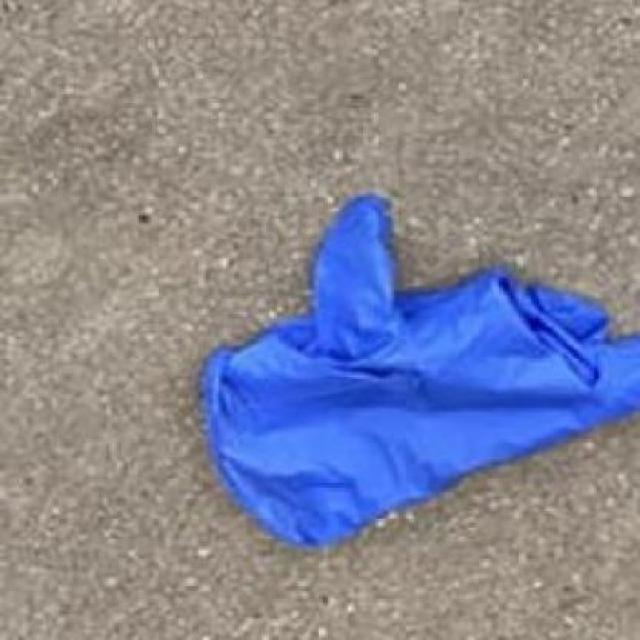gloved_hand: (192, 193, 638, 562)
